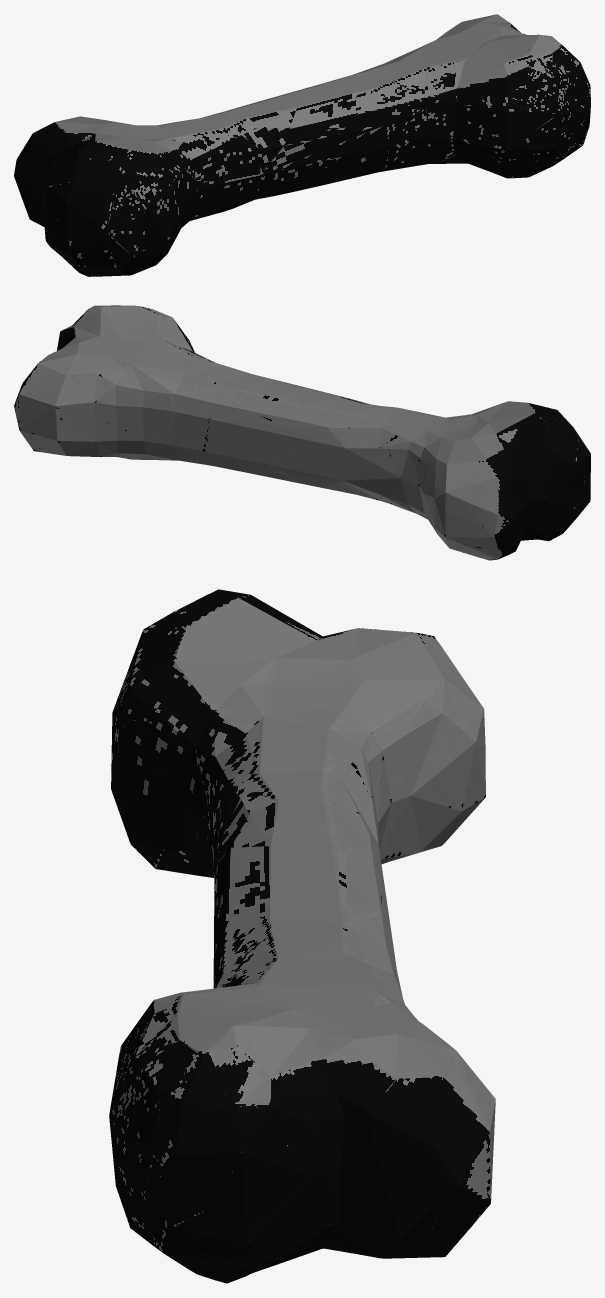
3 renders of one model, top to bottom at view 1: azimuth 30°, elevation 25°; view 2: azimuth 150°, elevation 25°; view 3: azimuth 270°, elevation 25°, orthographic. The views are drawn at different scales.
Parts seen in each view (by area): view 1: OBJ0c5; view 2: OBJ0c5; view 3: OBJ0c5.
Part boxes in pixels (x1,y1,x2,y2): OBJ0c5: [14, 14, 590, 276]; OBJ0c5: [14, 305, 590, 560]; OBJ0c5: [109, 589, 495, 1283].
Size of the model in its own units: 0.2408 by 0.0567 by 0.0773.
1 material, 1 textured.
